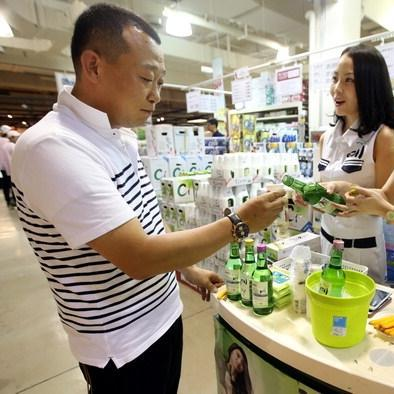soju: (220, 229, 274, 319), (282, 172, 349, 216)
